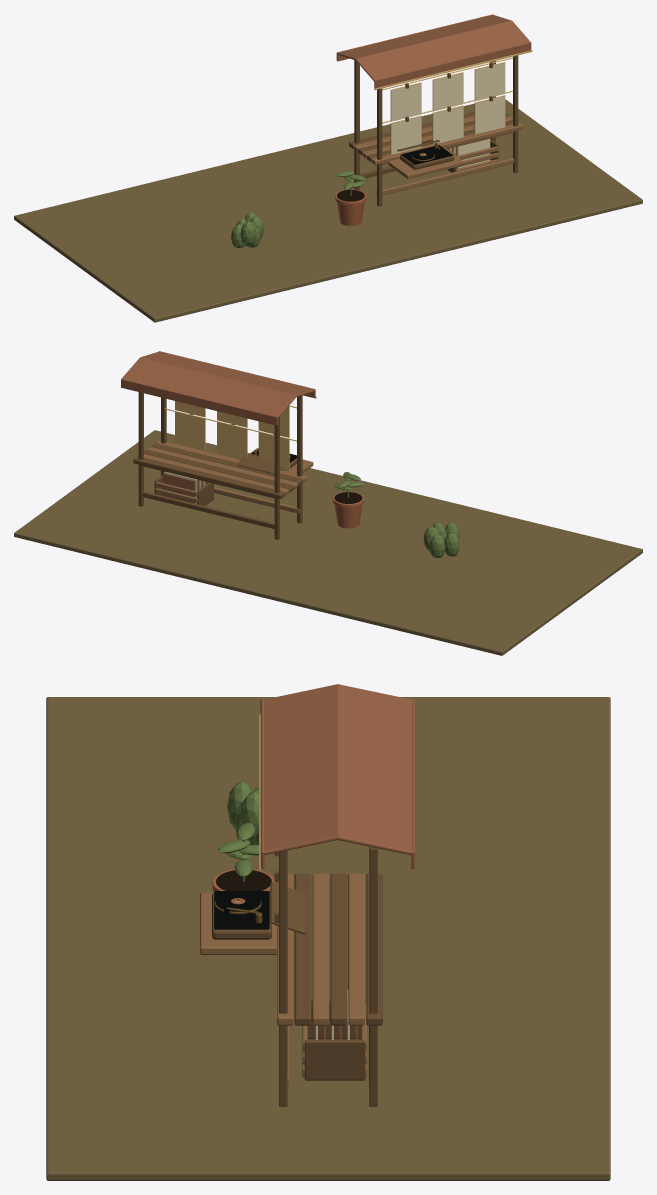
Rendered from garden-models-v1.glb.
3 renders of one model, top to bottom at view 1: azimuth 30°, elevation 25°; view 2: azimuth 150°, elevation 25°; view 3: azimuth 270°, elevation 25°, orthographic. The views are drawn at different scales.
Parts seen in each view (by area): view 1: ground_near, Canopy.001, Canopy, Canvas valance.001, sleeve_06, sleeve_02, sleeve_03, sleeve_05, sleeve_01, sleeve_04, Counter plank.005, Front rail (+6 smaller); view 2: ground_near, Canopy, Canopy.001, Canvas valance, Counter plank, Sleeve back.005, Sleeve back.004, Rear rail, Sleeve back.003, Counter plank.003, Counter plank.002, Counter plank.001 (+10 smaller); view 3: ground_near, Canopy.001, Canopy, Counter plank.002, Counter plank.003, Counter plank.001, Crate end.001, Counter plank.004, Oak upright.002, Oak upright.003, Listening shelf, Counter plank (+7 smaller).
Part boxes in pixels (<box>): ground_near: <box>14,99,642,322</box>; Canopy.001: <box>355,21,530,81</box>; Canopy: <box>337,15,511,60</box>; Canvas valance.001: <box>374,42,531,88</box>; sleeve_06: <box>475,96,505,134</box>; sleeve_02: <box>433,73,463,111</box>; sleeve_03: <box>475,63,505,100</box>; sleeve_05: <box>433,106,463,144</box>; sleeve_01: <box>392,83,421,121</box>; sleeve_04: <box>392,116,421,154</box>; Counter plank.005: <box>371,122,522,165</box>; Front rail: <box>376,158,514,195</box>; ground_near: <box>14,430,642,655</box>; Canopy: <box>122,357,296,417</box>; Canopy.001: <box>140,351,314,396</box>; Canvas valance: <box>121,378,277,425</box>; Counter plank: <box>133,456,284,498</box>; Sleeve back.005: <box>175,412,205,450</box>; Sleeve back.004: <box>217,422,247,459</box>; Rear rail: <box>142,491,274,528</box>; Sleeve back.003: <box>258,432,289,470</box>; Counter plank.003: <box>146,446,298,489</box>; Counter plank.002: <box>144,450,293,492</box>; Counter plank.001: <box>137,454,289,495</box>; ground_near: <box>46,697,610,1180</box>; Canopy.001: <box>263,684,338,855</box>; Canopy: <box>337,684,412,855</box>; Counter plank.002: <box>330,873,347,1025</box>; Counter plank.003: <box>312,873,329,1025</box>; Counter plank.001: <box>348,873,364,1025</box>; Crate end.001: <box>304,1040,365,1080</box>; Counter plank.004: <box>294,873,311,1025</box>; Oak upright.002: <box>369,846,377,1106</box>; Oak upright.003: <box>279,850,287,1106</box>; Listening shelf: <box>200,892,276,954</box>; Counter plank: <box>366,873,382,1025</box>.
Bounding box in the file's own units: 12 × 3.38 × 6.
